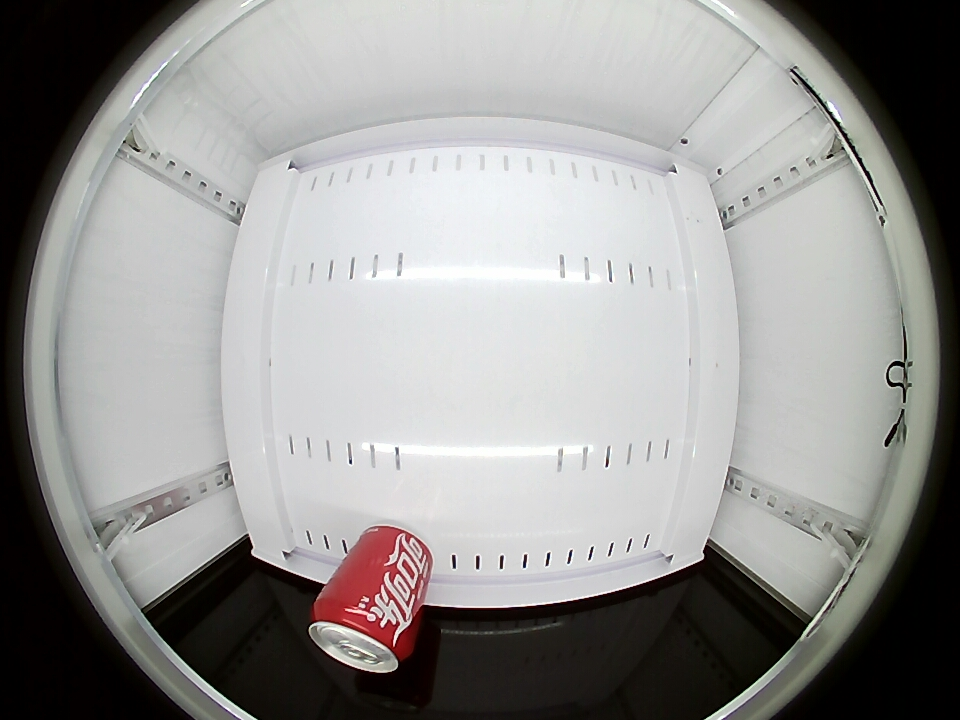kele: (309, 595, 414, 673)
